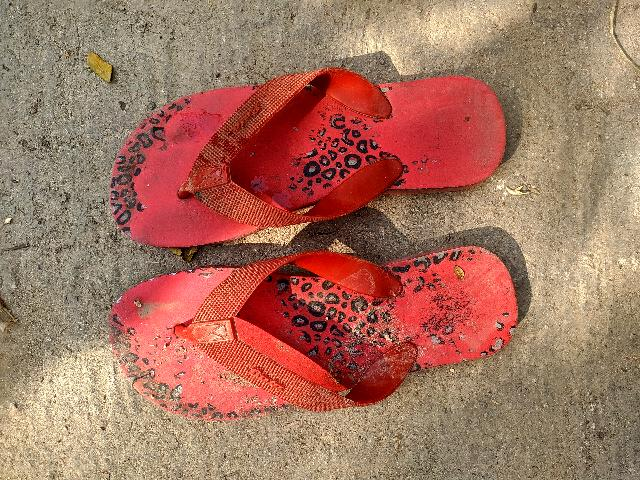sandal: (103, 205, 559, 434), (96, 39, 515, 247)
